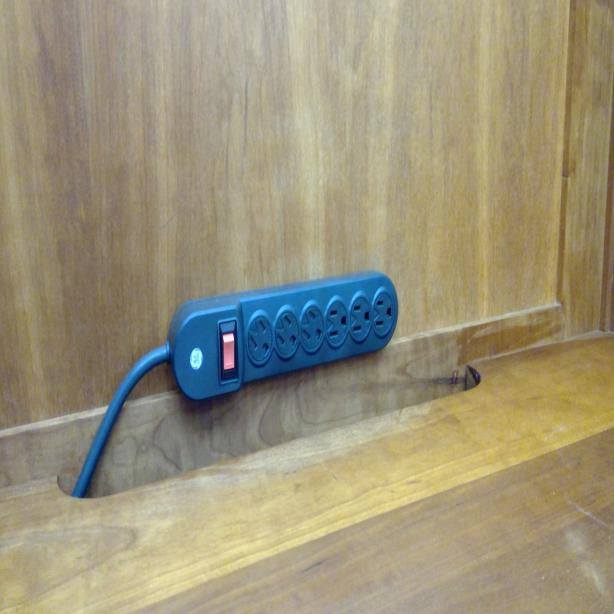typeb: (245, 315, 273, 363), (299, 302, 325, 350), (274, 308, 300, 356), (348, 292, 372, 342), (326, 296, 349, 346), (372, 289, 395, 336)
